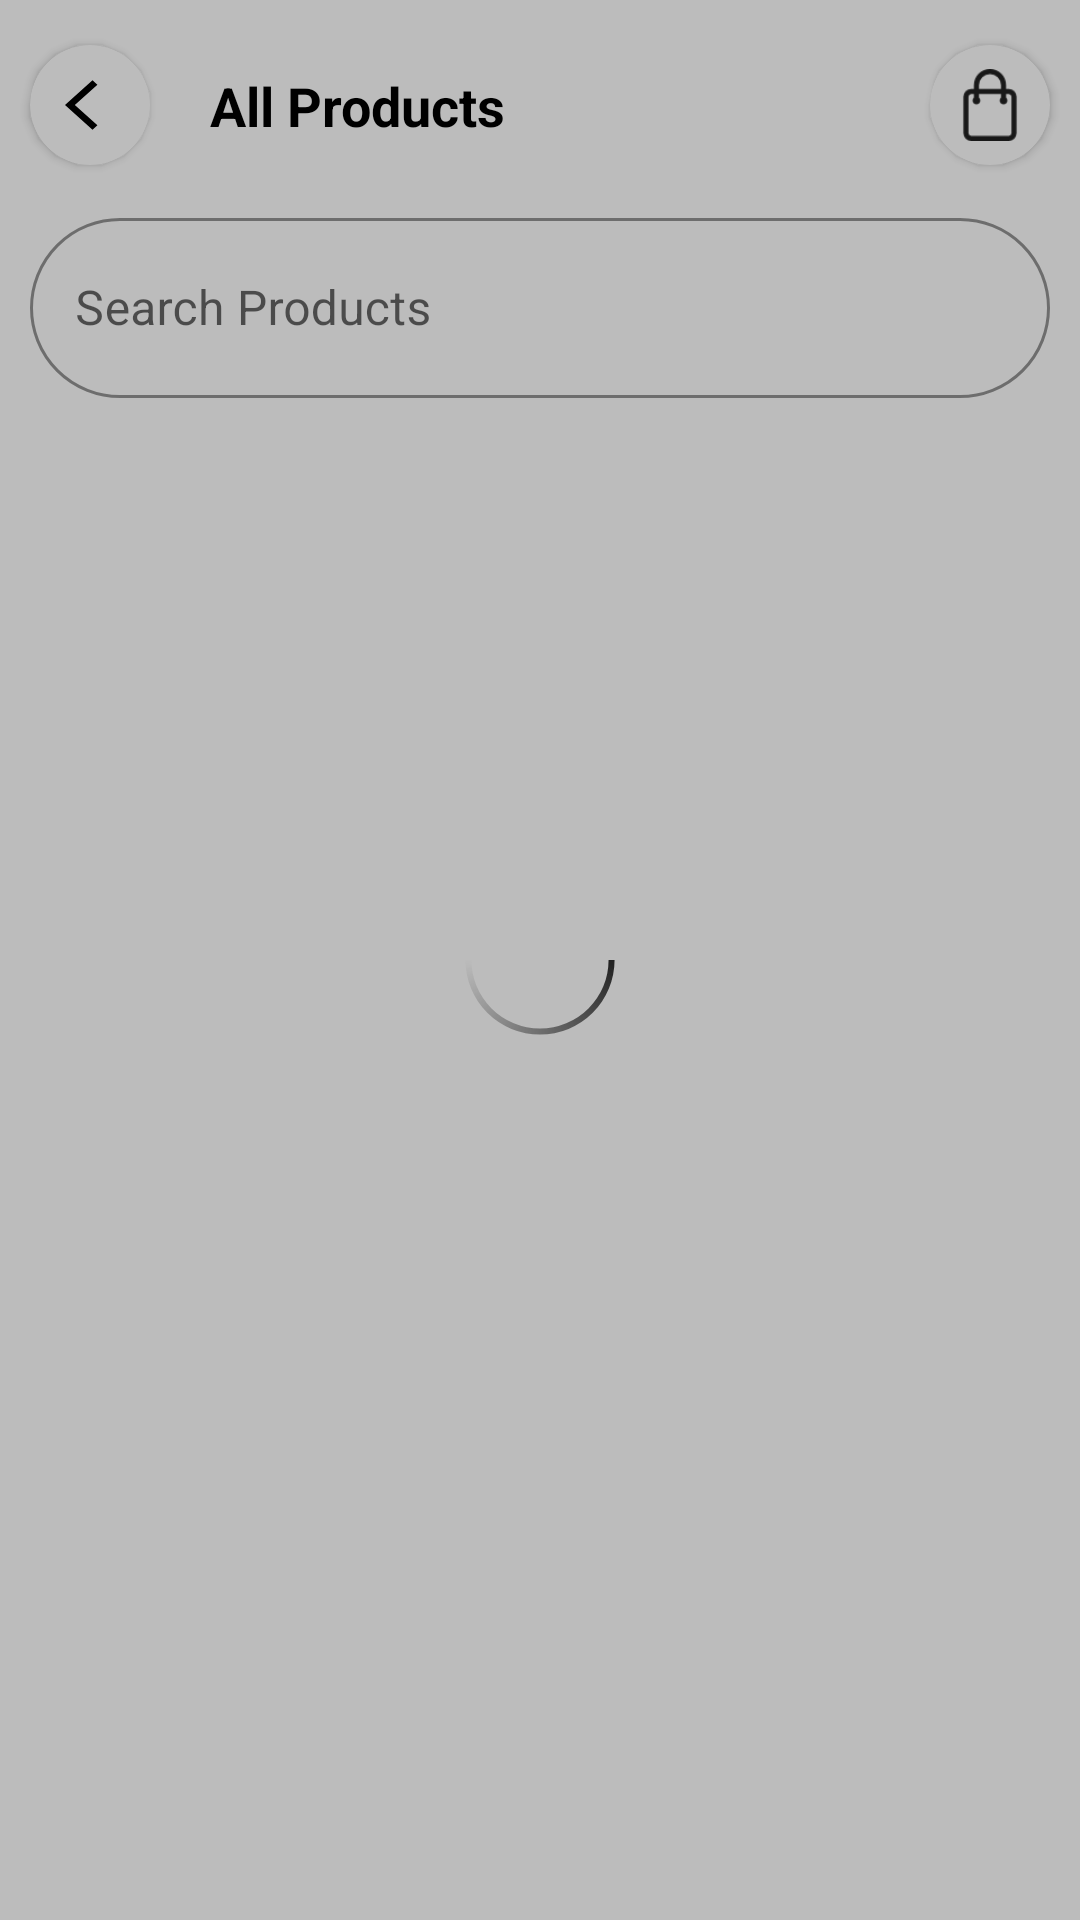

Point at icon controls on the screen. Image size 1080×1920, points as point (x, y).
back: point (81, 105)
bag: point (990, 105)
